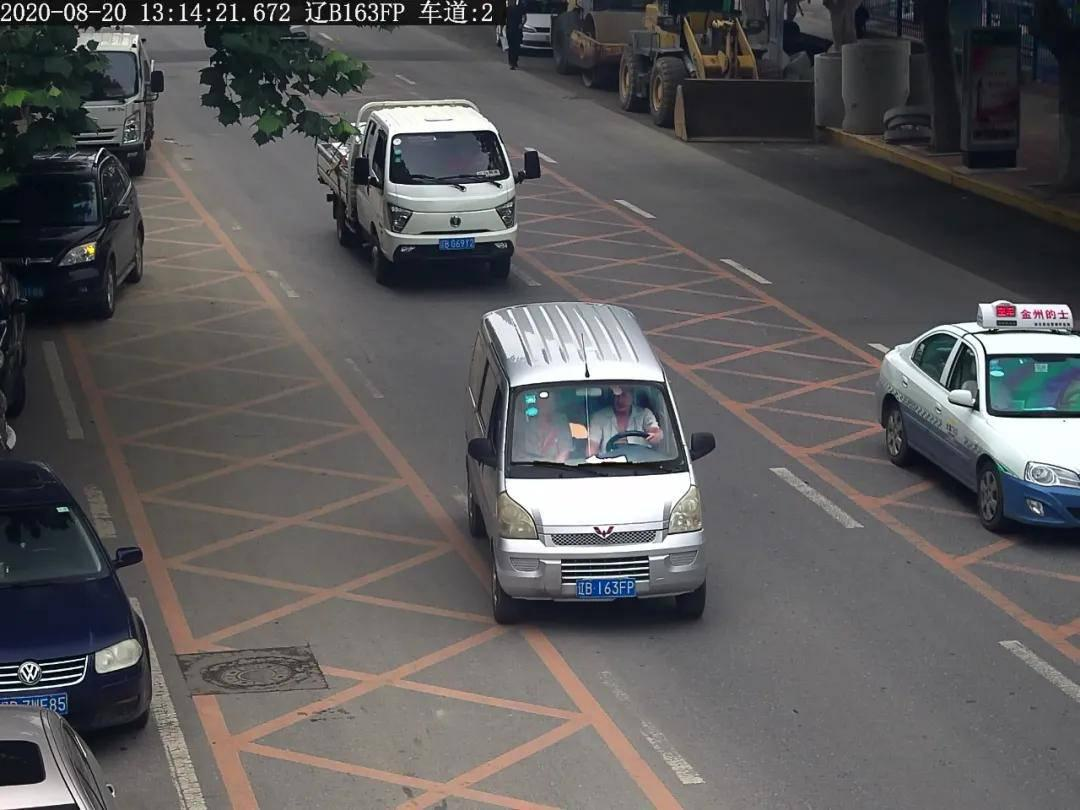bus: (872, 311, 1077, 537)
car: (451, 288, 713, 619), (1, 436, 149, 757), (884, 300, 1078, 528), (2, 45, 158, 303), (331, 93, 533, 275), (206, 30, 376, 172)
